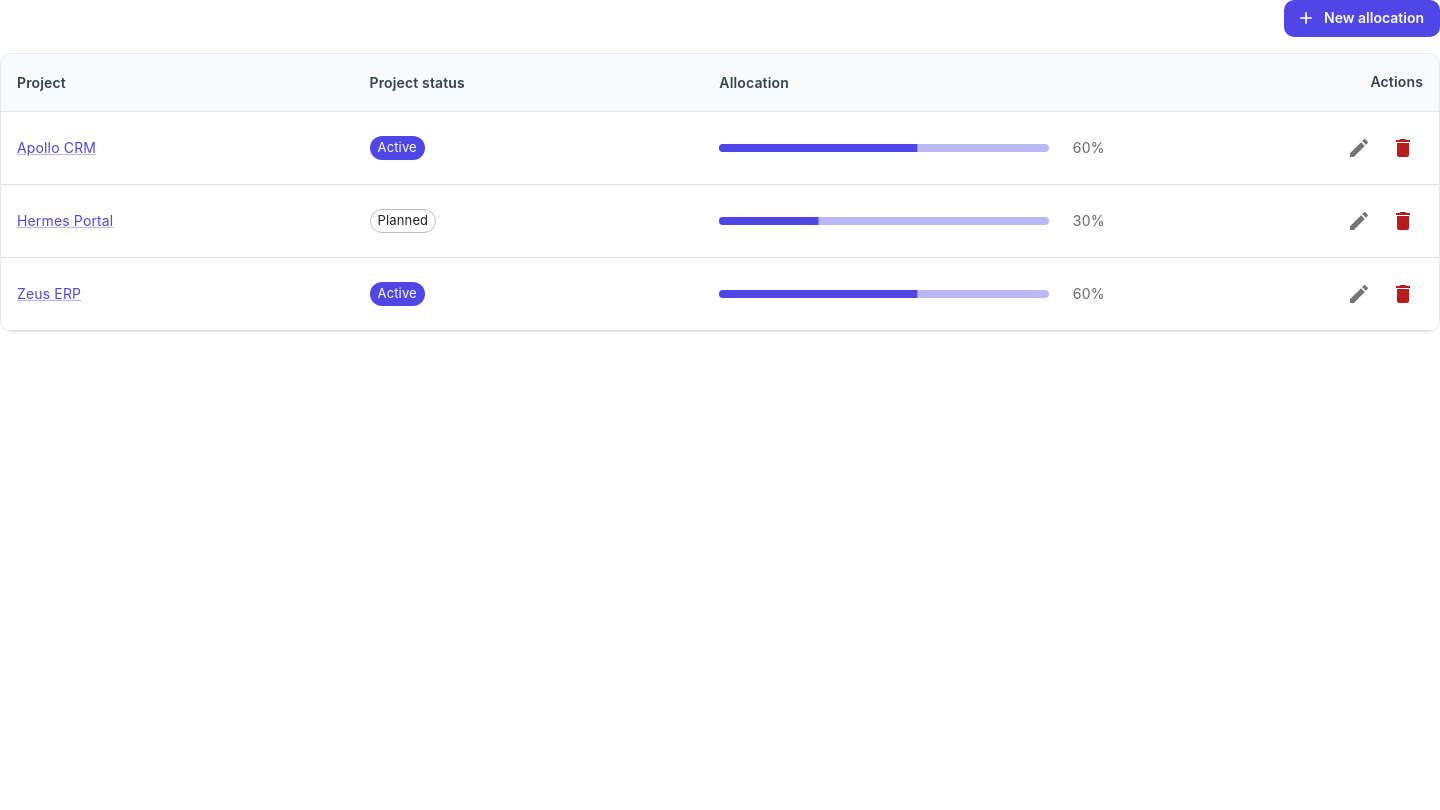
Test: allocation what-if preview in the real dialog › person page, edit: subtracts the original and updates while typing
Check: the table is shown, box [1,54,1439,331]
Step 1. Click the button named "Edit allocation for Priya Shah on Apollo CRM" → click(1359, 148), box [1339,128,1379,168]
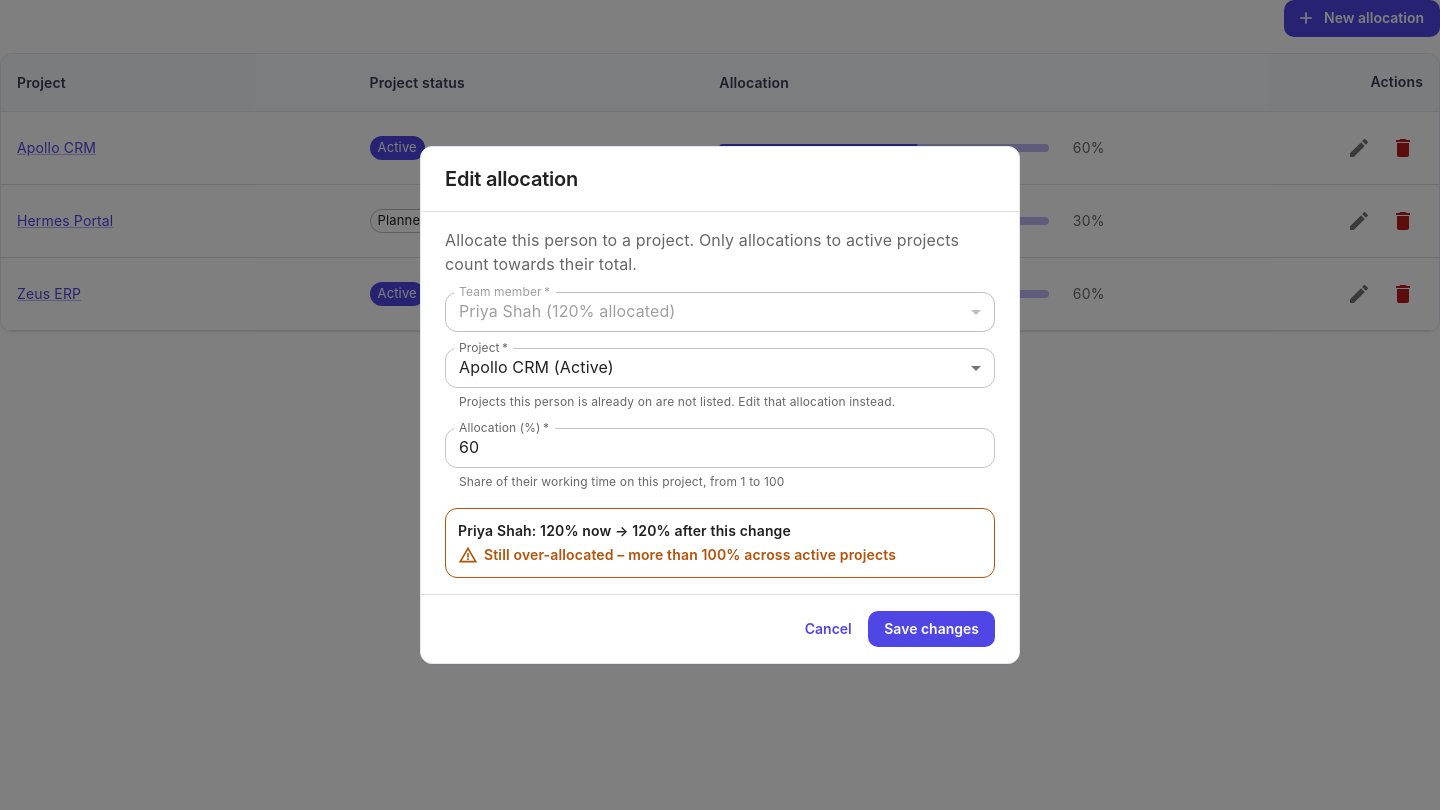
Check: the button "Save changes" is shown, box [868,611,995,647]
Check: the element with test id "allocation-what-if" shows "Priya Shah: 120% now → 120% after this change", box [458,522,791,539]
Step 2. Clear the number field labelled "Allocation (%) *" → (720, 448), box [445,428,995,468]
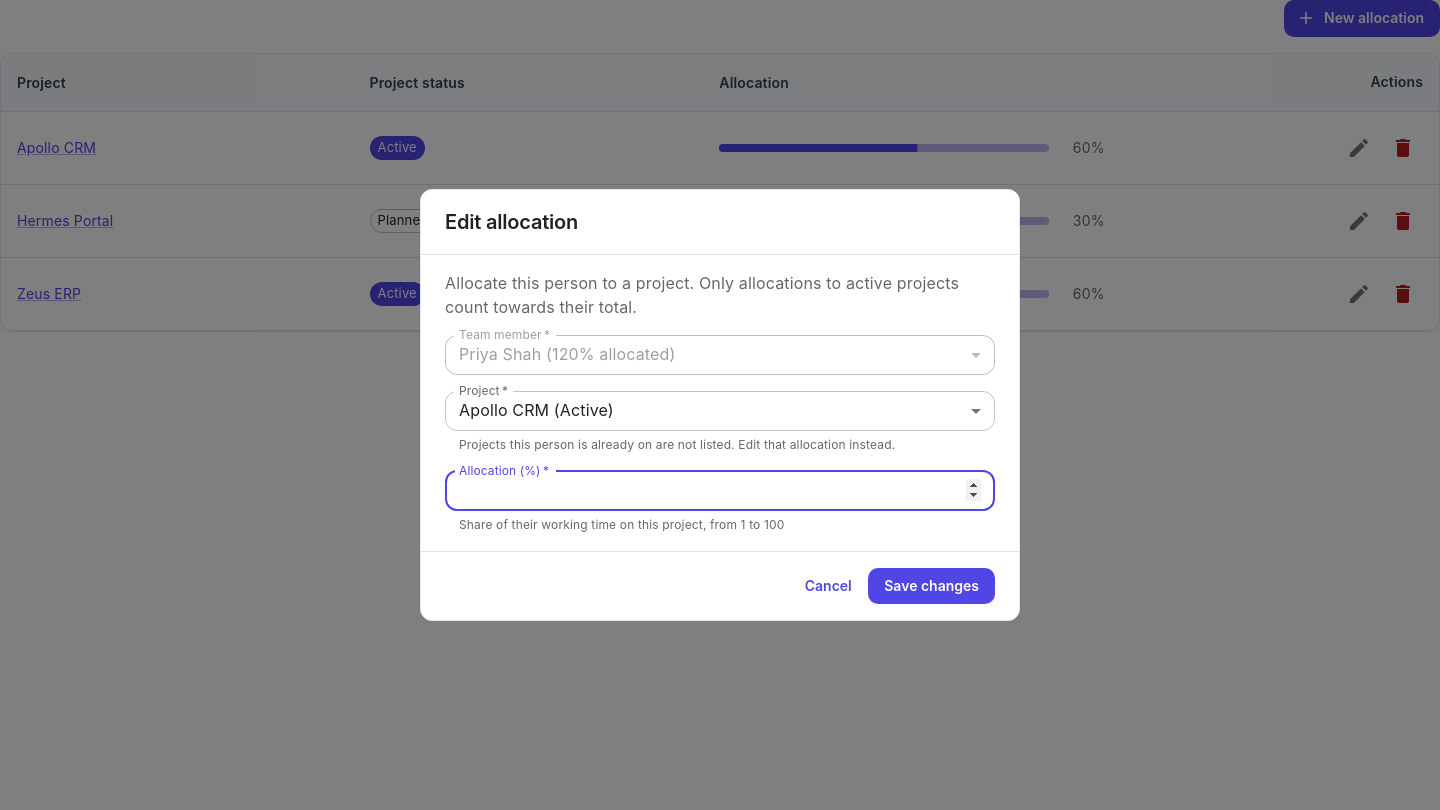
Check: the element with test id "allocation-what-if" is gone
Step 3. Type "40" into the number field labelled "Allocation (%) *" → (720, 491), box [445,471,995,511]
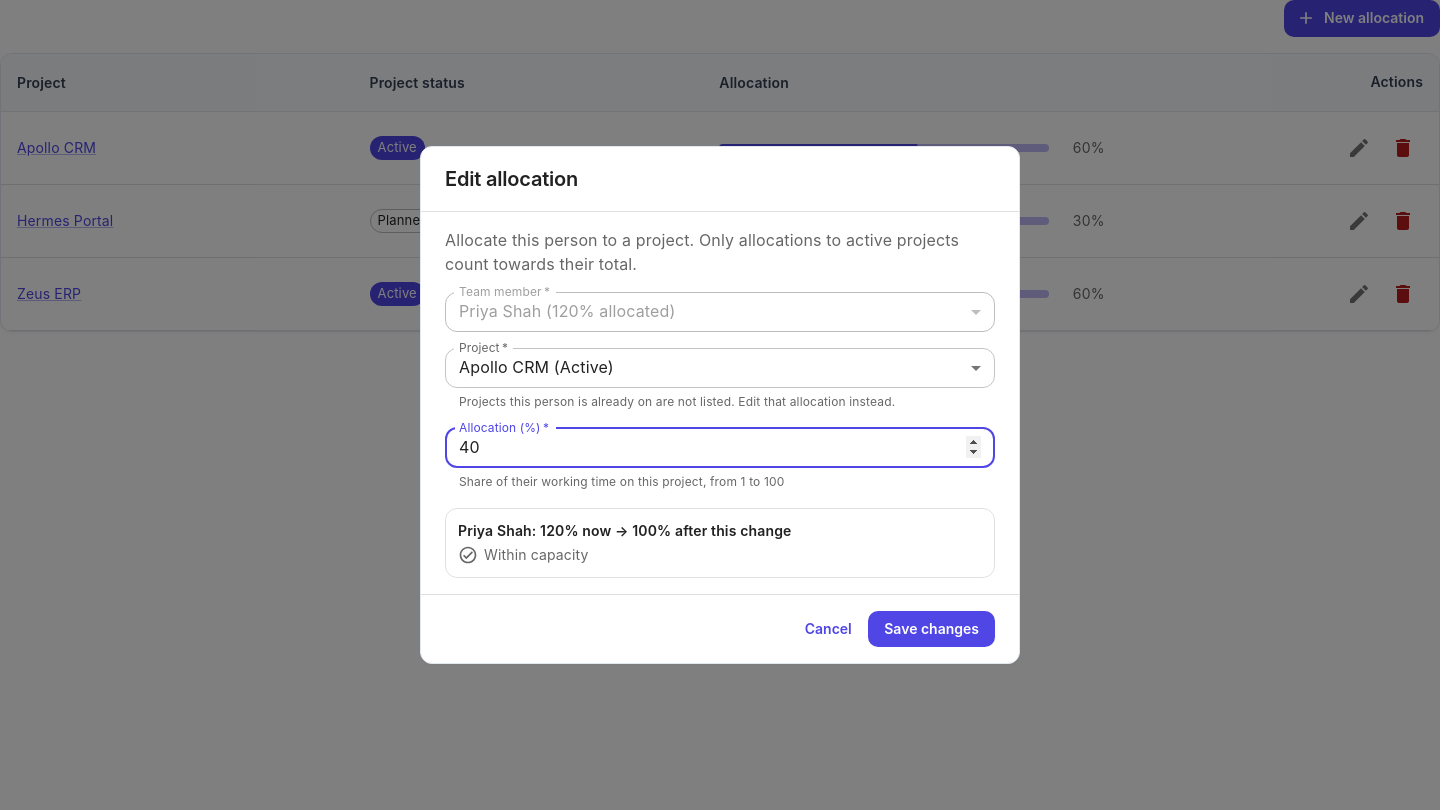
Check: the element with test id "allocation-what-if" shows "Priya Shah: 120% now → 100% after this change", box [458,522,792,539]
Check: the element with test id "allocation-what-if" shows "Within capacity", box [484,546,589,563]
